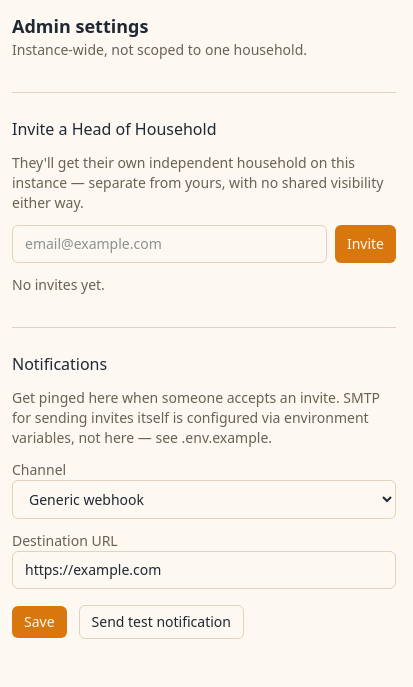
AdminSettingsPage › shows a failure message when the test notification fails
The image size is (413, 687).
Click the button "Send test notification": (161, 622) [79,605,244,639]
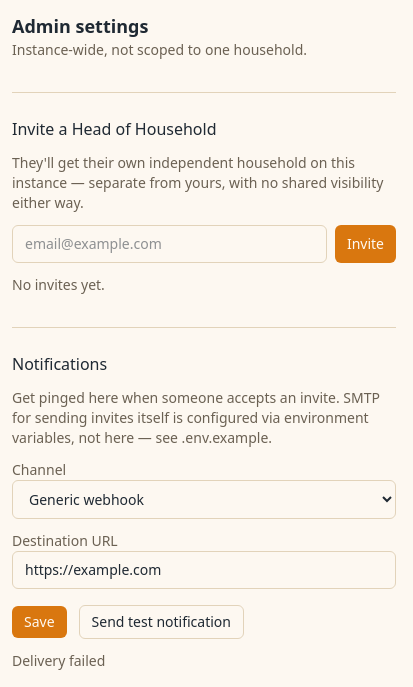
Check: the text "Delivery failed" is shown, box [12,651,105,670]
